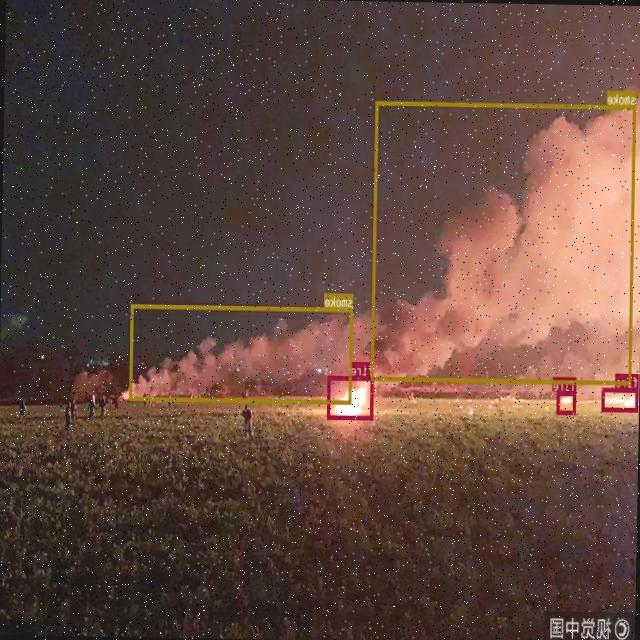fire: (327, 375, 374, 419), (602, 387, 638, 411), (557, 391, 576, 414)
smoke: (371, 100, 636, 384), (130, 303, 353, 403)
